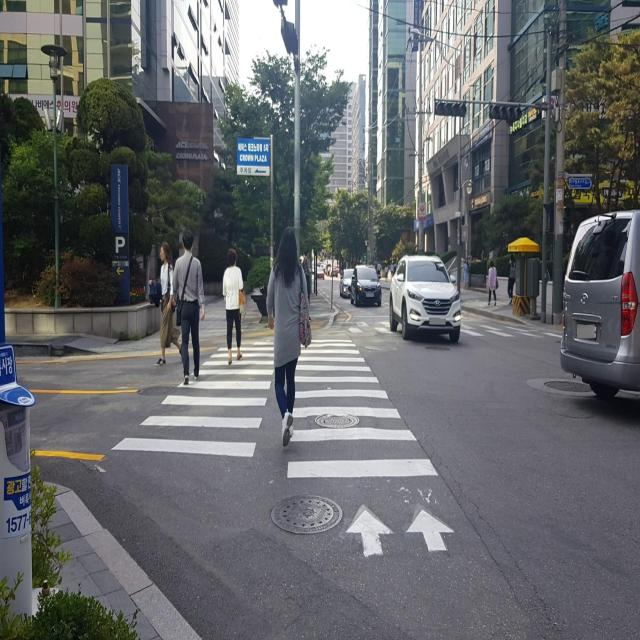횡단보도: (110, 337, 456, 560), (350, 318, 563, 344)
